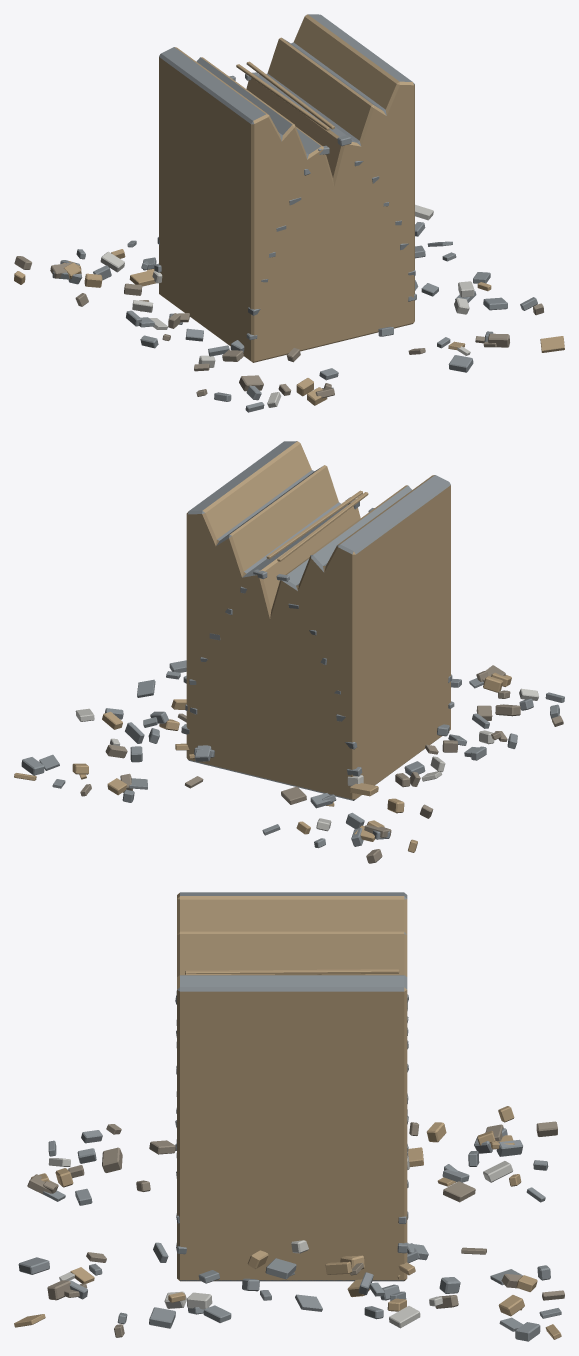
File: Model_CityWallBreachPack.glb
The picture shows the model from 3 angles, top to bottom: view 1: azimuth 30°, elevation 25°; view 2: azimuth 150°, elevation 25°; view 3: azimuth 270°, elevation 25°; orthographic projection. The views are drawn at different scales.
Visible parts, largest first — view 1: CityWallBreachShoulderLeft, CityWallBreachShoulderRight, CityWallBreachDebrisFan; view 2: CityWallBreachShoulderLeft, CityWallBreachShoulderRight, CityWallBreachDebrisFan; view 3: CityWallBreachShoulderRight, CityWallBreachShoulderLeft, CityWallBreachDebrisFan.
Part boxes in pixels (<box>): CityWallBreachShoulderLeft: <box>159,47,416,362</box>; CityWallBreachShoulderRight: <box>154,14,414,362</box>; CityWallBreachDebrisFan: <box>14,204,564,412</box>; CityWallBreachShoulderLeft: <box>181,475,450,800</box>; CityWallBreachShoulderRight: <box>186,441,454,799</box>; CityWallBreachDebrisFan: <box>14,660,564,863</box>; CityWallBreachShoulderRight: <box>175,969,408,1281</box>; CityWallBreachShoulderLeft: <box>176,892,408,1281</box>; CityWallBreachDebrisFan: <box>14,1106,564,1341</box>.
Bounding box in the file's own units: 17.38 × 10.88 × 18.19.
